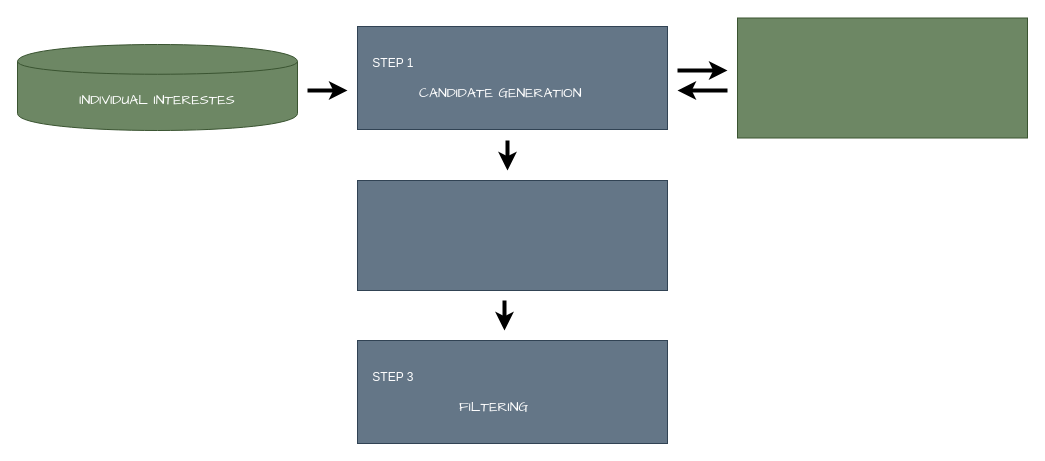
The diagram is 1045 pixels wide and 461 high, and some of its shapes have lost their labels. The shapes that lost their labels are listed below. From the top down, each one's centre as x and y in pixels, then its label:
At [882,77]: "ITEM SIMILARITIES".
At [512,235]: "STEP 2 CANDIDATE RANKING".
